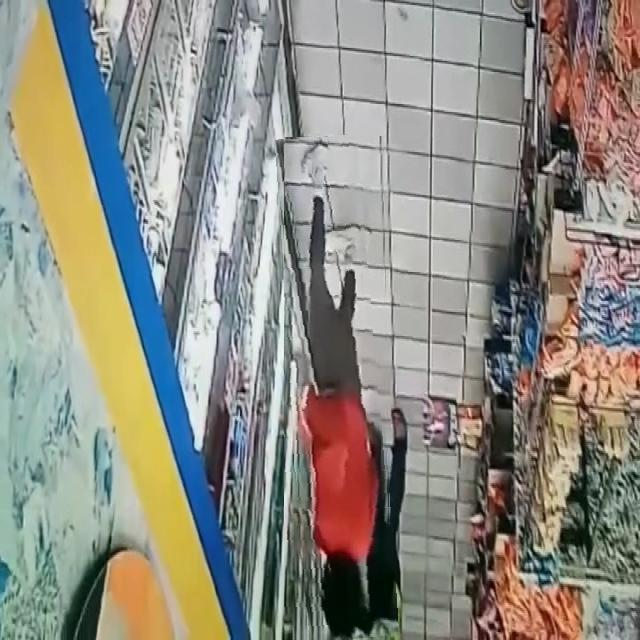Normal: (284, 136, 391, 640)
